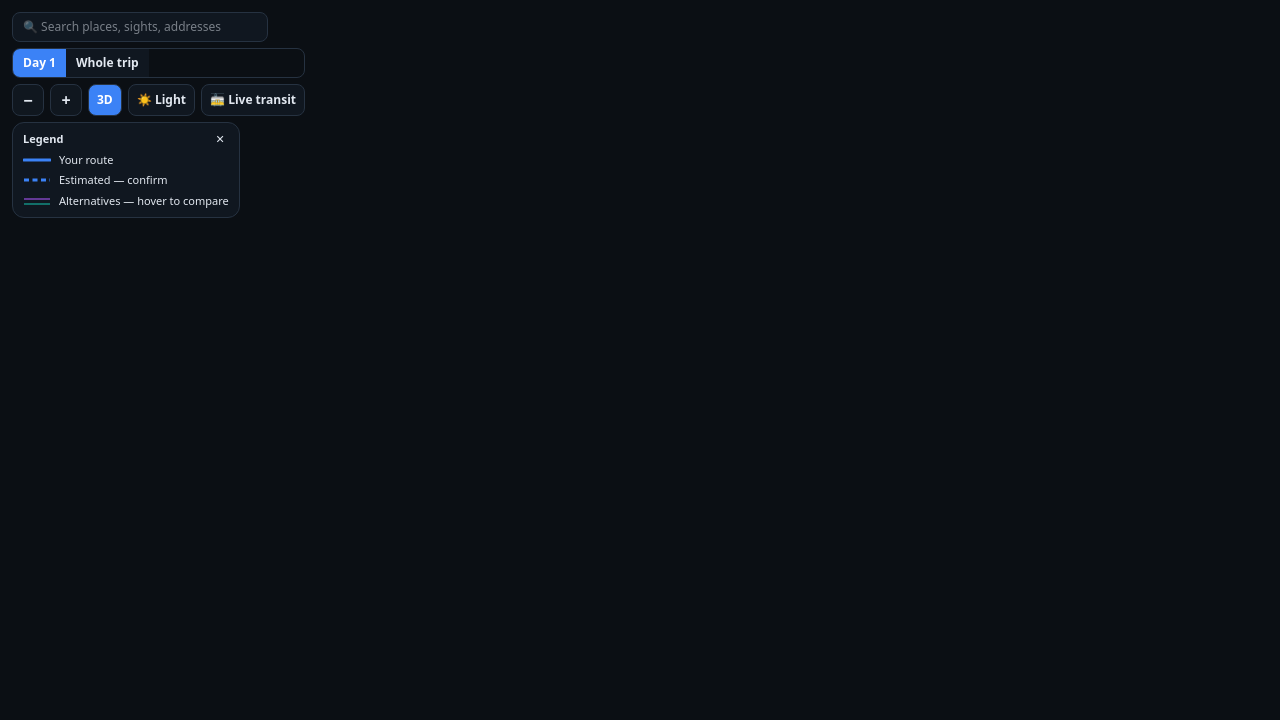
Test: TripMap › shows a collapsible legend for the line styles
This screenshot has width=1280, height=720.
Expected: the text "Your route" is shown, [23,152,114,166]
Expected: the text "Estimated — confirm" is shown, [23,172,168,187]
Click the button named "Hide legend". click: (220, 139)
box: [212,131,229,148]
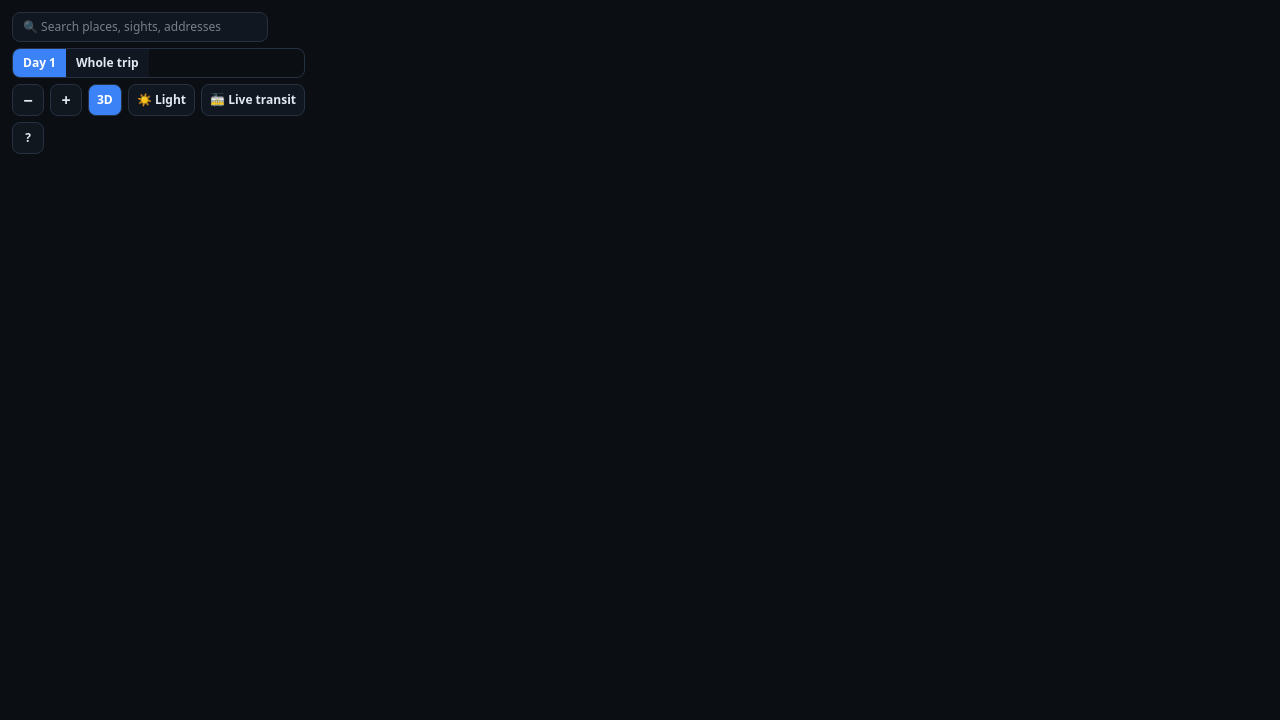
Expected: the text "Your route" is gone
Click the button named "Show legend". click: (28, 138)
box: [12,122,44,154]
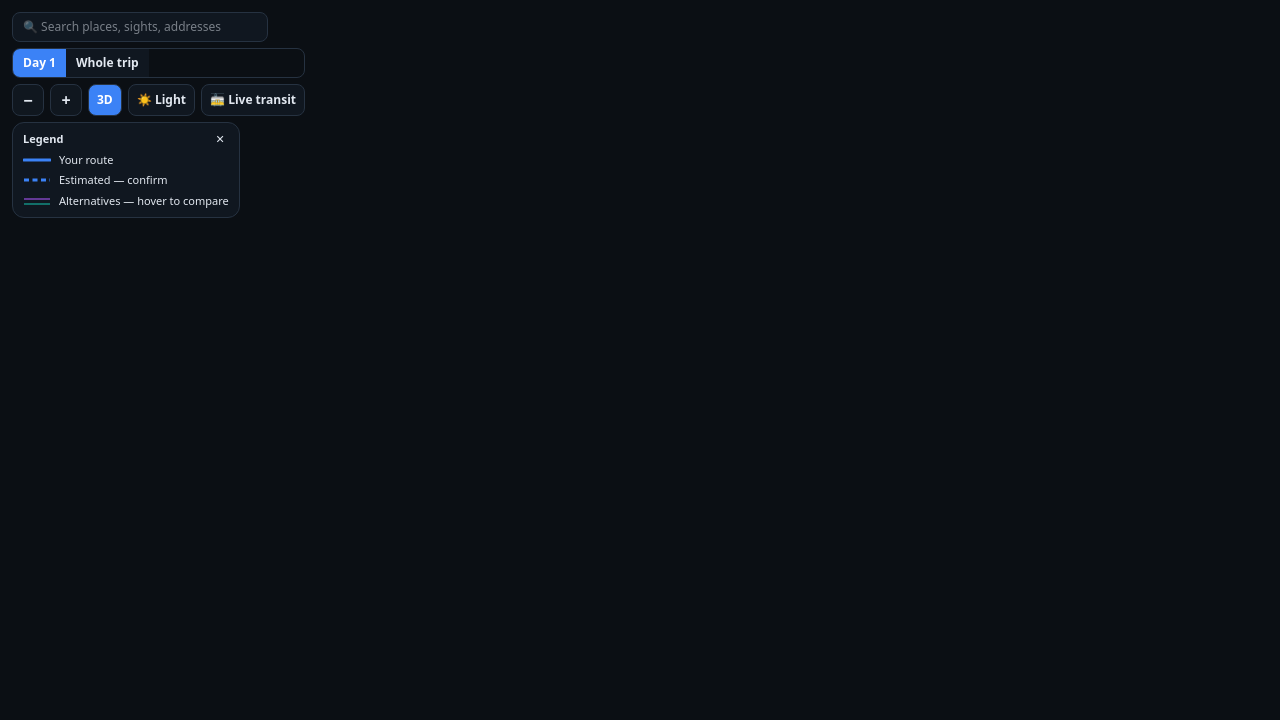
Expected: the text "Your route" is shown, [23,152,114,166]
